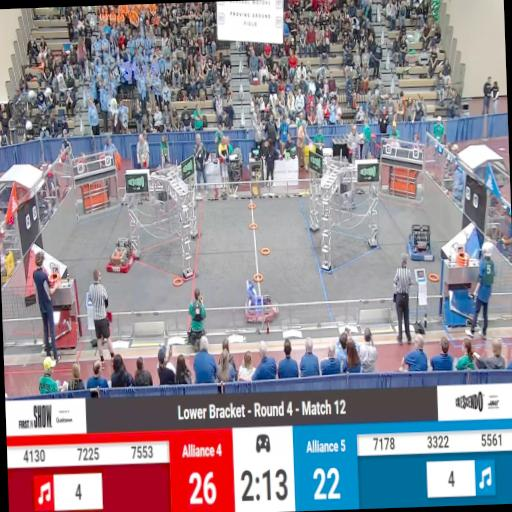robot: (244, 280, 278, 320), (105, 239, 137, 274), (408, 222, 436, 260)
